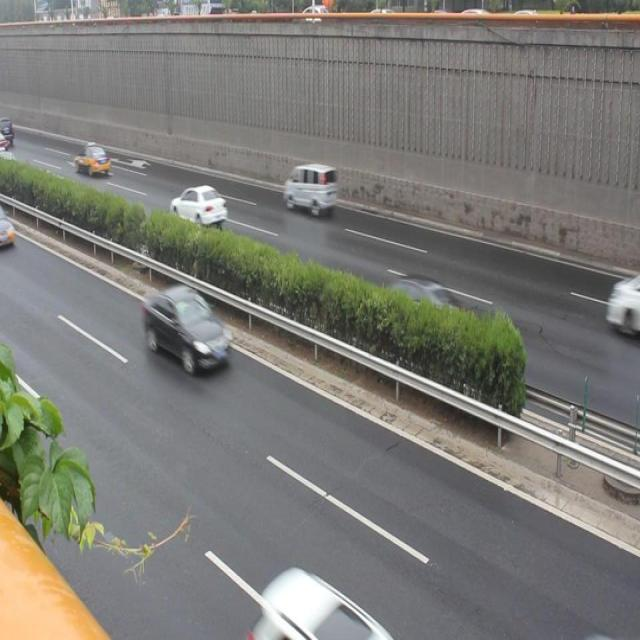car: (142, 280, 231, 376), (375, 266, 469, 348), (171, 179, 228, 232)
truck: (282, 157, 338, 215), (604, 269, 640, 339)
